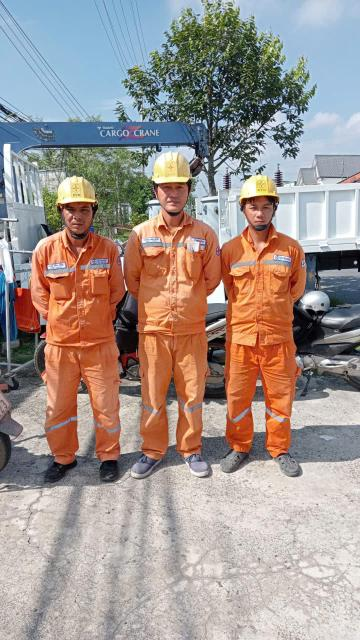helmet: (221, 172, 293, 211), (137, 152, 204, 189), (49, 170, 108, 210)
shoes: (212, 419, 255, 482), (127, 441, 176, 485), (38, 445, 81, 492), (168, 441, 215, 478), (273, 449, 314, 489), (95, 450, 128, 491)
